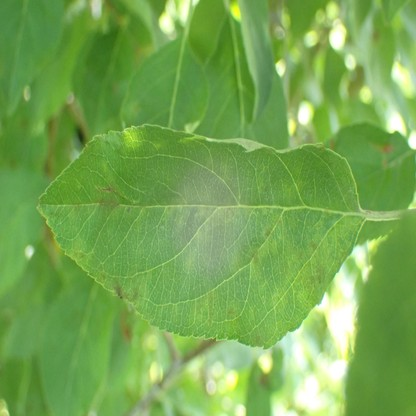scab: (294, 239, 325, 294), (101, 273, 142, 302), (194, 291, 216, 323), (207, 202, 235, 223), (97, 186, 119, 211), (67, 243, 89, 267), (184, 196, 205, 216), (248, 247, 262, 274), (264, 226, 274, 247), (164, 204, 175, 216), (227, 305, 236, 318), (73, 202, 82, 211), (127, 206, 130, 213)
